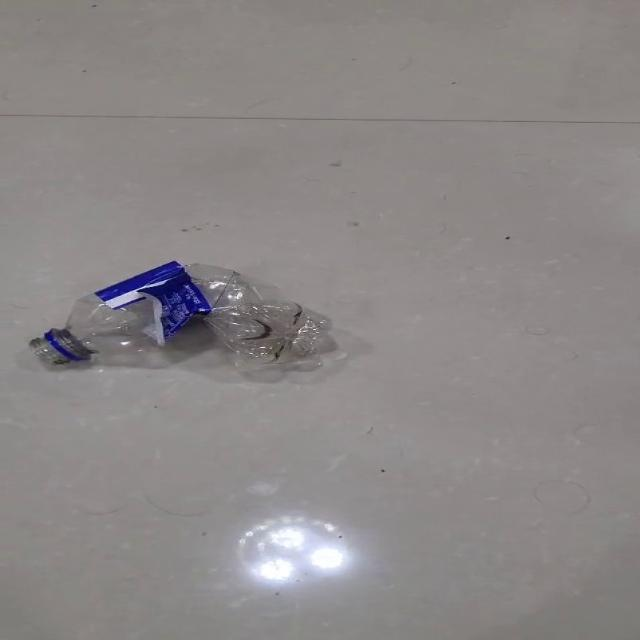plastic: (28, 260, 340, 371)
